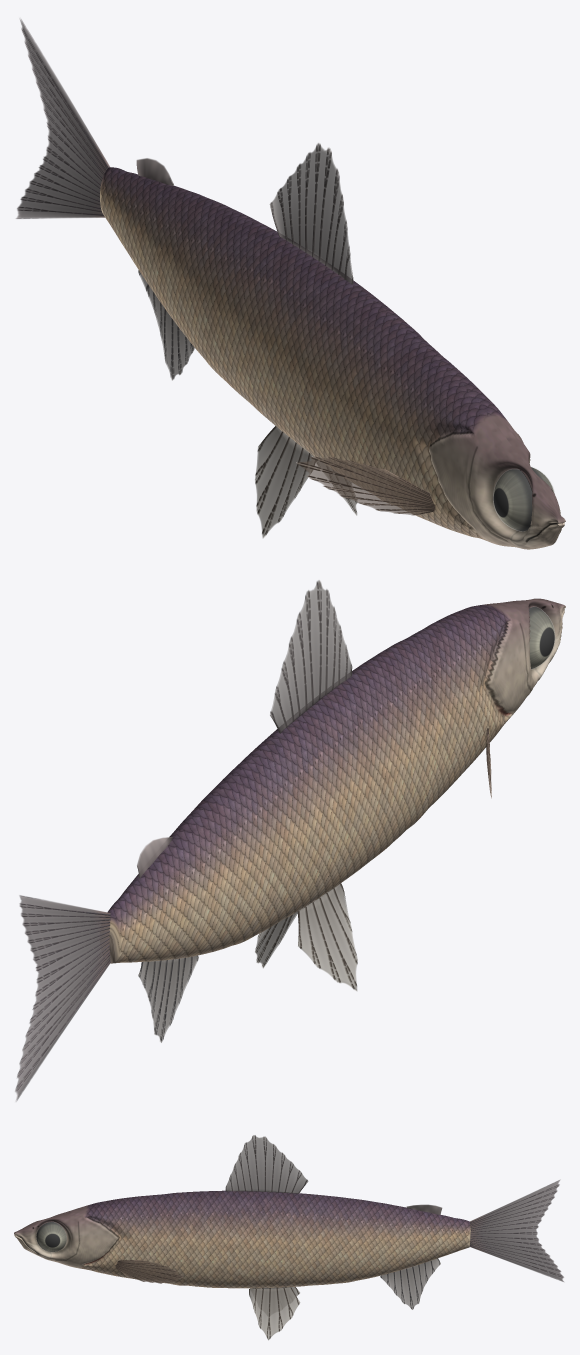
The model's file is sielawa.glb.
3 views of the same model, one above another, from view 1: azimuth 30°, elevation 25°; view 2: azimuth 150°, elevation 25°; view 3: azimuth 270°, elevation 25° (orthographic). The views are drawn at different scales.
Visible parts, largest first — view 1: Body, FinCaudal, FinDorsal1, FinPelvic, FinPectoral, CorneaLeft, EyeLeft, FinAnal; view 2: Body, FinCaudal, FinDorsal1, FinPelvic, FinAnal, CorneaLeft, EyeLeft, FinAdipose; view 3: Body, FinCaudal, FinDorsal1, FinPelvic, FinAnal, FinPectoral, EyeRight, CorneaRight.
Part boxes in pixels (bbox=[...]): Body: bbox=[100, 167, 565, 549]; FinCaudal: bbox=[16, 19, 109, 218]; FinDorsal1: bbox=[269, 143, 353, 284]; FinPelvic: bbox=[255, 426, 357, 538]; FinPectoral: bbox=[296, 456, 435, 515]; CorneaLeft: bbox=[493, 469, 531, 531]; EyeLeft: bbox=[493, 469, 532, 531]; FinAnal: bbox=[138, 270, 194, 380]; Body: bbox=[107, 598, 565, 963]; FinCaudal: bbox=[15, 895, 110, 1101]; FinDorsal1: bbox=[270, 580, 352, 733]; FinPelvic: bbox=[255, 883, 357, 990]; FinAnal: bbox=[138, 955, 198, 1042]; CorneaLeft: bbox=[529, 607, 555, 669]; EyeLeft: bbox=[529, 607, 554, 668]; FinAdipose: bbox=[137, 837, 172, 878]; Body: bbox=[14, 1190, 470, 1288]; FinCaudal: bbox=[470, 1179, 563, 1281]; FinDorsal1: bbox=[225, 1135, 308, 1193]; FinPelvic: bbox=[249, 1287, 300, 1340]; FinAnal: bbox=[380, 1258, 440, 1309]; FinPectoral: bbox=[115, 1259, 183, 1283]; EyeRight: bbox=[36, 1222, 66, 1251]; CorneaRight: bbox=[36, 1222, 66, 1251].
Size of the model in its own units: 0.2067 by 0.3926 by 1.
9 materials, 8 textured.
